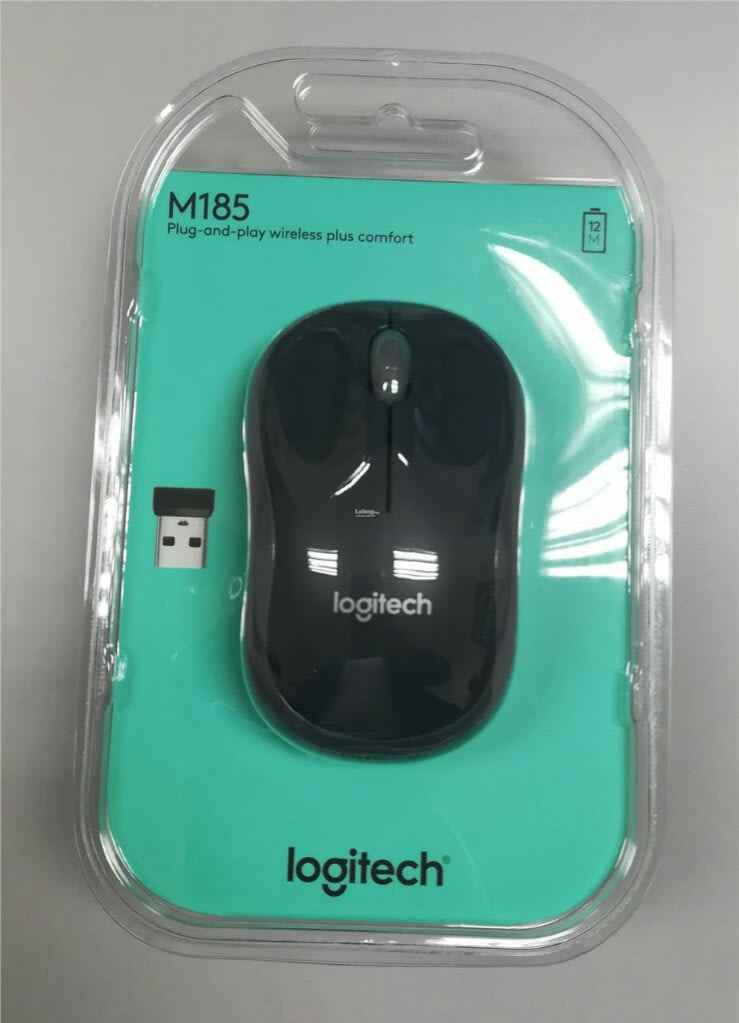logitech-mouse-m185: (144, 302, 530, 767)
